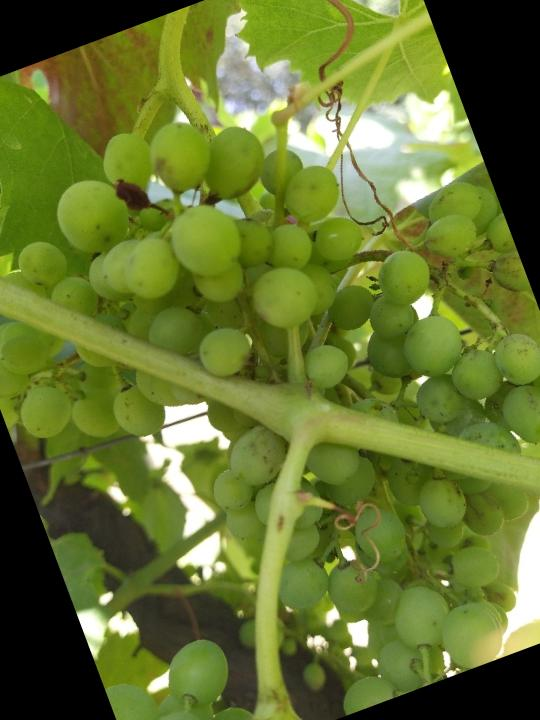grape: (0, 21, 540, 720)
